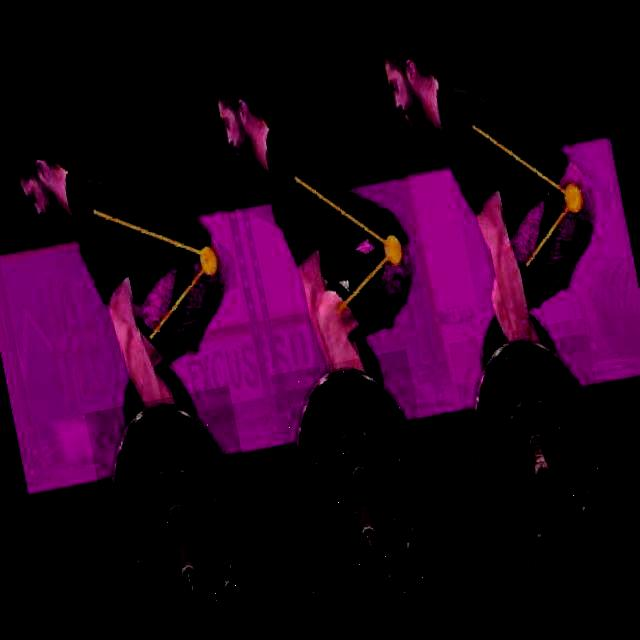barbell: (85, 387, 277, 640), (272, 350, 454, 615), (450, 318, 632, 582)
